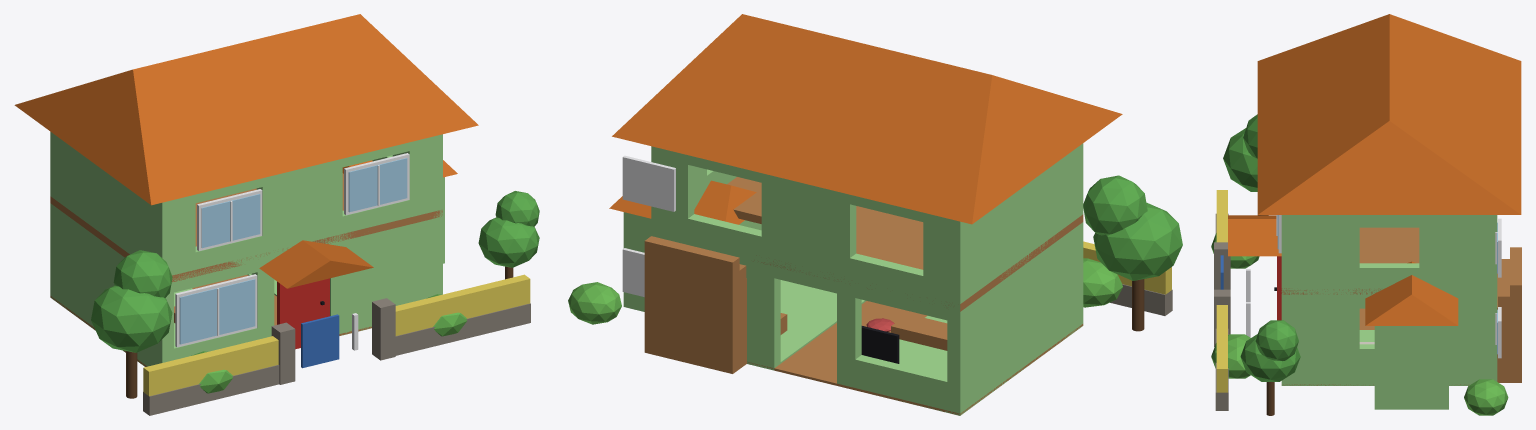
Rendered from nobita.glb.
3 renders of one model, left to right at view 1: azimuth 30°, elevation 25°; view 2: azimuth 150°, elevation 25°; view 3: azimuth 270°, elevation 25°, orthographic. The views are drawn at different scales.
Parts seen in each view (by area): view 1: nobi_roof, nobi_body, nobi_tree1_l1, nobi_wall_-11, nobi_wall_-18, nobi_w3_glass, nobi_canopy, nobi_stone_-18, nobi_stone_-11, nobi_w1_glass, nobi_w2_glass, nobi_tree2_l1 (+13 smaller); view 2: nobi_body, nobi_roof, nobi_stairs_7, nobi_tree1_l1, nobi_slab, nobi_floor, nobi_tree1_l2, nobi_side_u_frame, nobi_wing_roof, nobi_bush3, nobi_bush1, nobi_table (+8 smaller); view 3: nobi_roof, nobi_body, nobi_wing, nobi_wing_roof, nobi_slab, nobi_canopy, nobi_stairs_7, nobi_tree2_l1, nobi_tree2_l2, nobi_tree1_l1, nobi_bush3, nobi_stairs_6 (+10 smaller).
Boxes of the visible parts, <box> form: nobi_roof: <box>14,14,478,205</box>; nobi_body: <box>50,132,442,366</box>; nobi_tree1_l1: <box>91,285,172,352</box>; nobi_wall_-11: <box>395,274,530,335</box>; nobi_wall_-18: <box>143,336,278,396</box>; nobi_w3_glass: <box>179,279,255,344</box>; nobi_canopy: <box>259,240,373,288</box>; nobi_stone_-18: <box>143,365,279,415</box>; nobi_stone_-11: <box>395,303,530,355</box>; nobi_w1_glass: <box>201,194,260,248</box>; nobi_w2_glass: <box>348,158,407,212</box>; nobi_tree2_l1: <box>478,217,539,267</box>; nobi_body: <box>651,143,1083,415</box>; nobi_roof: <box>612,14,1122,224</box>; nobi_stairs_7: <box>644,236,739,373</box>; nobi_tree1_l1: <box>1093,202,1182,280</box>; nobi_slab: <box>727,177,1083,281</box>; nobi_floor: <box>747,301,1083,415</box>; nobi_tree1_l2: <box>1083,175,1147,235</box>; nobi_side_u_frame: <box>622,155,675,211</box>; nobi_wing_roof: <box>609,180,756,224</box>; nobi_bush3: <box>568,282,621,324</box>; nobi_bush1: <box>1083,258,1122,307</box>; nobi_table: <box>891,314,947,350</box>; nobi_roof: <box>1257,14,1521,214</box>; nobi_body: <box>1281,215,1497,385</box>; nobi_wing: <box>1374,326,1448,409</box>; nobi_wing_roof: <box>1365,261,1458,325</box>; nobi_slab: <box>1281,227,1419,294</box>; nobi_canopy: <box>1228,215,1281,256</box>; nobi_stairs_7: <box>1510,247,1521,382</box>; nobi_tree2_l1: <box>1240,334,1300,381</box>; nobi_tree2_l2: <box>1255,320,1298,361</box>; nobi_tree1_l1: <box>1223,128,1257,191</box>; nobi_bush3: <box>1464,379,1508,415</box>; nobi_stairs_6: <box>1498,259,1509,382</box>.
Size of the model in its own units: 13.34 by 7.56 by 8.36.
